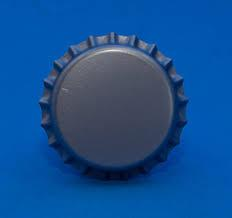Metal: (32, 24, 192, 192)
